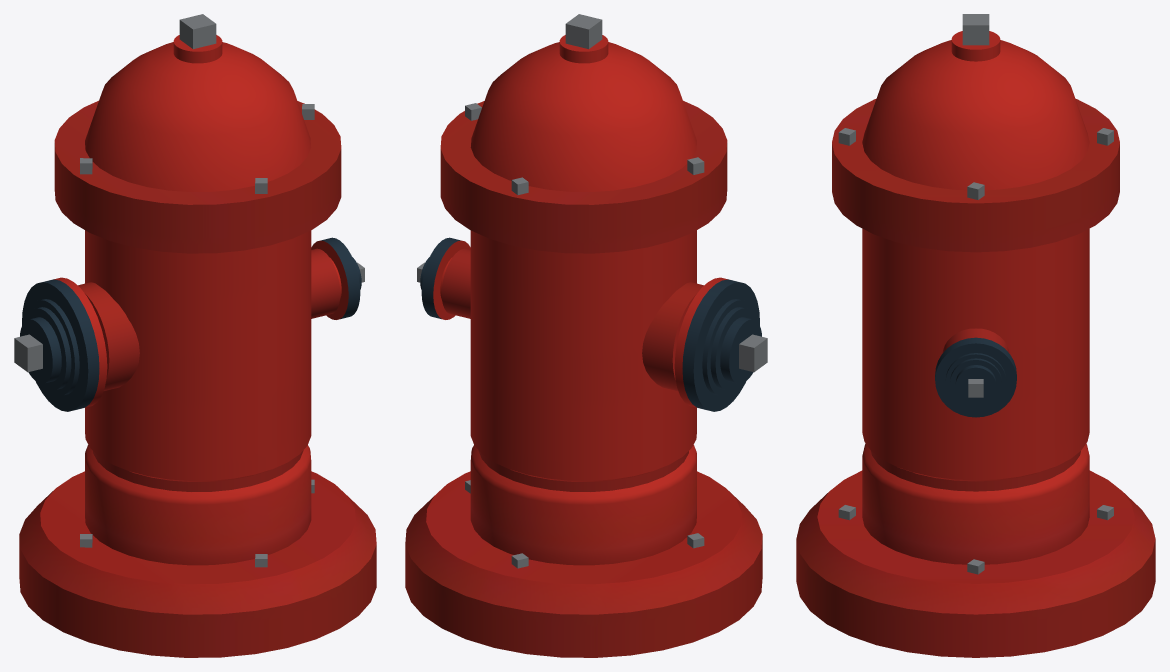
The model's file is Hidrante.glb.
3 views of the same model, side by side, from view 1: azimuth 30°, elevation 25°; view 2: azimuth 150°, elevation 25°; view 3: azimuth 270°, elevation 25° (orthographic).
Visible parts, largest first — view 1: Hidrante; view 2: Hidrante; view 3: Hidrante.
Boxes of the visible parts, x1,y1,x2,y2 form: Hidrante: (14,14,376,657); Hidrante: (405,14,767,657); Hidrante: (796,14,1155,657).
Size of the model in its own units: 2.19 by 3.46 by 2.
1 material, 1 textured.
